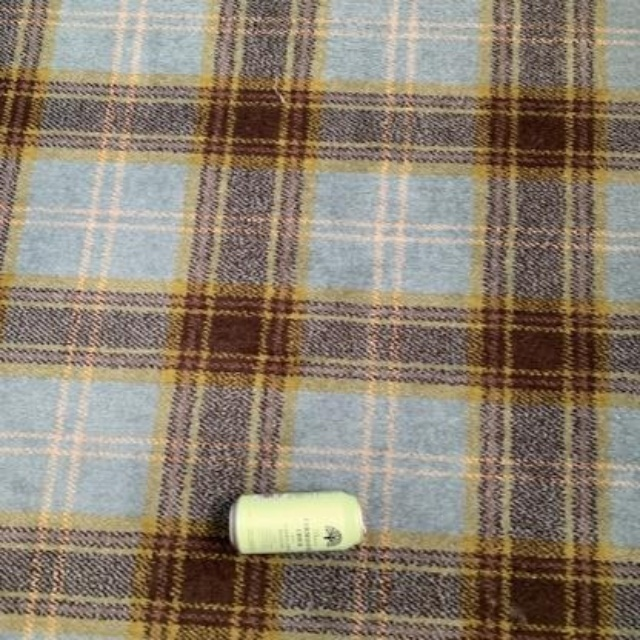trash: (229, 491, 365, 552)
